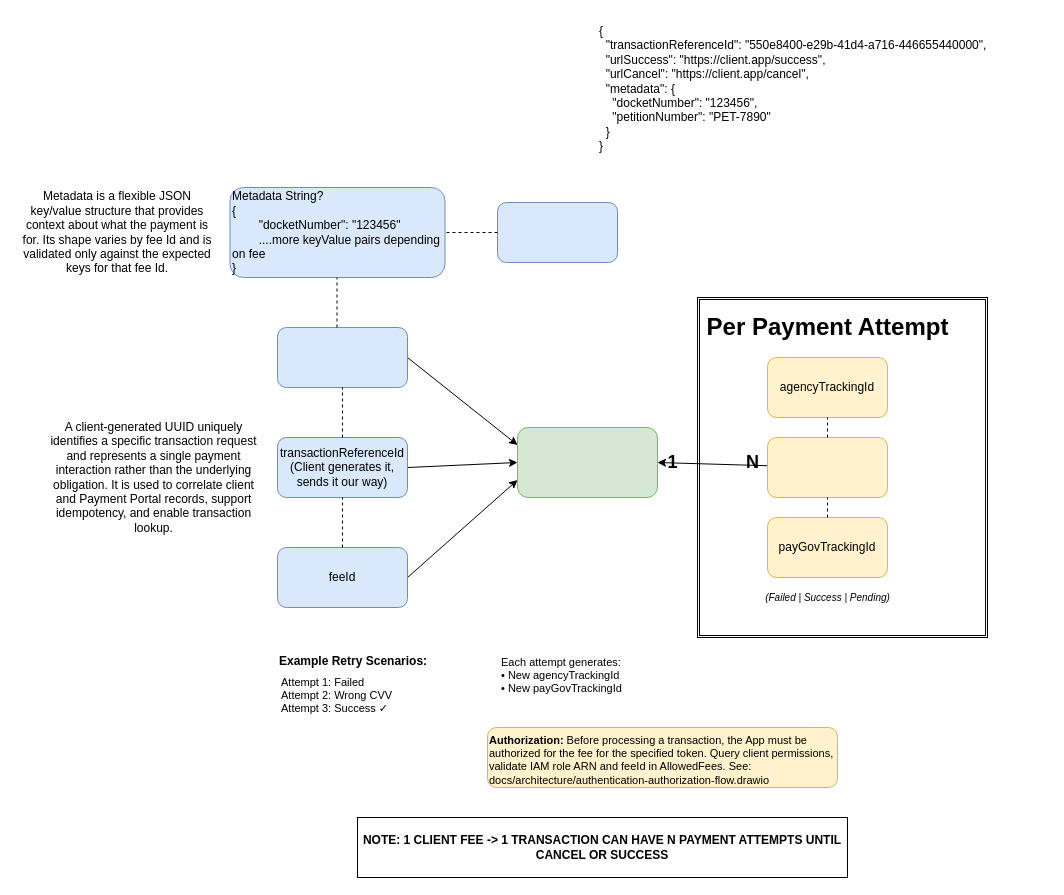
The diagram is 1064 pixels wide and 895 high, and some of its shapes have lost their labels. Here are the shapes that lost their labels. From the top down, the centre of each, then its label:
At point 557,232: "Validate based on the keyValue pairs expected for a given feeId.".
At point 342,357: "IAM Role ARN".
At point 587,462: "transaction".
At point 827,467: "status".
